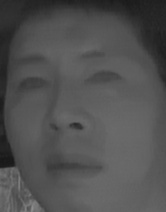eye: (84, 66, 124, 91), (15, 74, 51, 94)
mouth: (42, 150, 105, 185)
